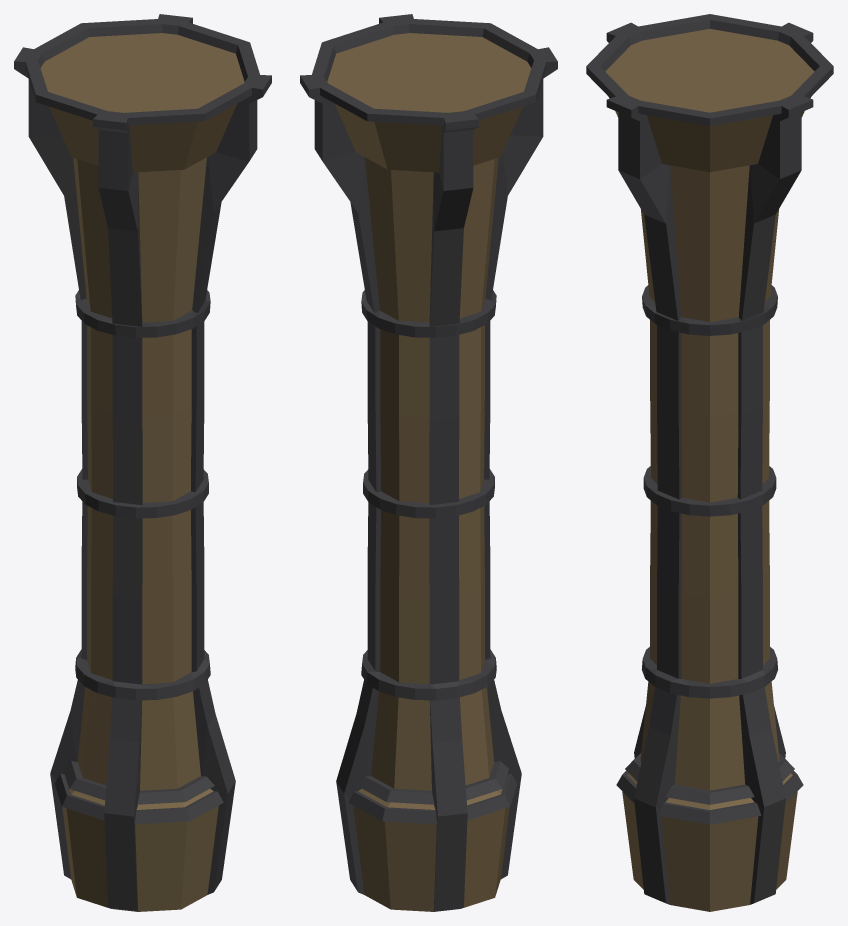
Rendered from Bell_Piller.fbx.
3 views of the same model, side by side, from view 1: azimuth 30°, elevation 25°; view 2: azimuth 150°, elevation 25°; view 3: azimuth 270°, elevation 25° (orthographic).
Visible parts, largest first — view 1: Cylinder.009; view 2: Cylinder.009; view 3: Cylinder.009.
Boxes of the visible parts, x1=… form: Cylinder.009: x1=14, y1=14, x2=271, y2=911; Cylinder.009: x1=300, y1=14, x2=557, y2=911; Cylinder.009: x1=586, y1=14, x2=833, y2=911.
Bounding box in the file's own units: 32.41 × 118 × 32.41.
